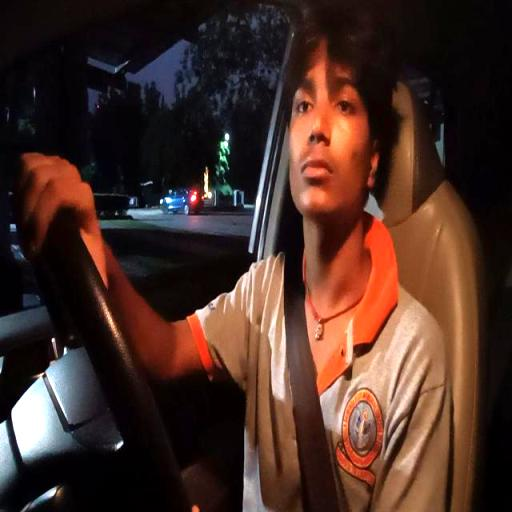Reaching_behind: (218, 14, 444, 505)
